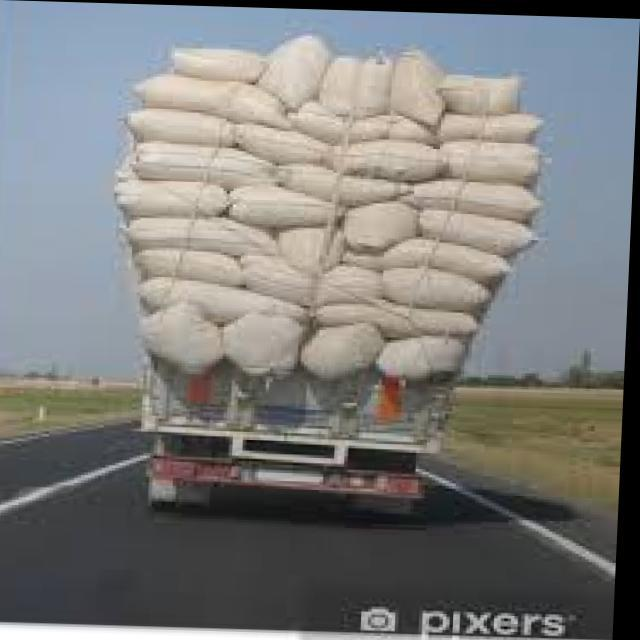uncovered: (108, 29, 548, 514)
